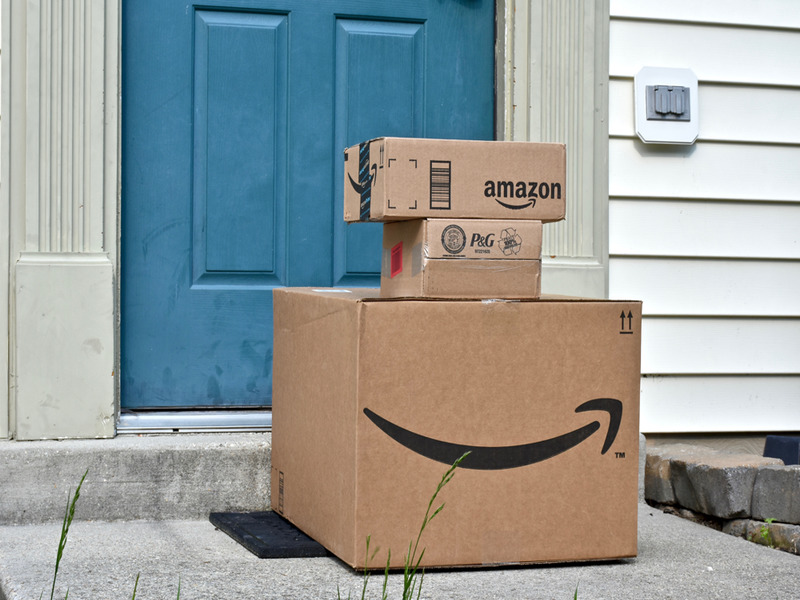package: (261, 275, 652, 577), (335, 130, 572, 225), (374, 214, 553, 303)
